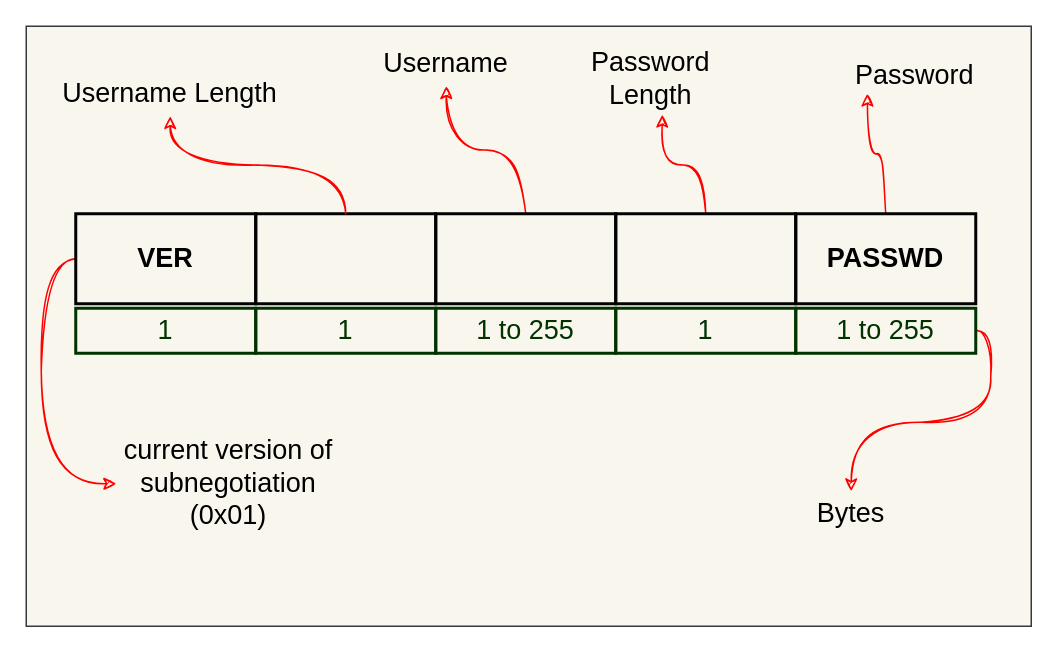
The diagram is 1058 pixels wide and 665 high, and some of its shapes have lost their labels. Here are the shapes that lost their labels. From the top down, the box of each, then its label:
(254, 212, 436, 304): ULEN
(434, 212, 616, 304): UNAME
(614, 212, 796, 304): PLEN
